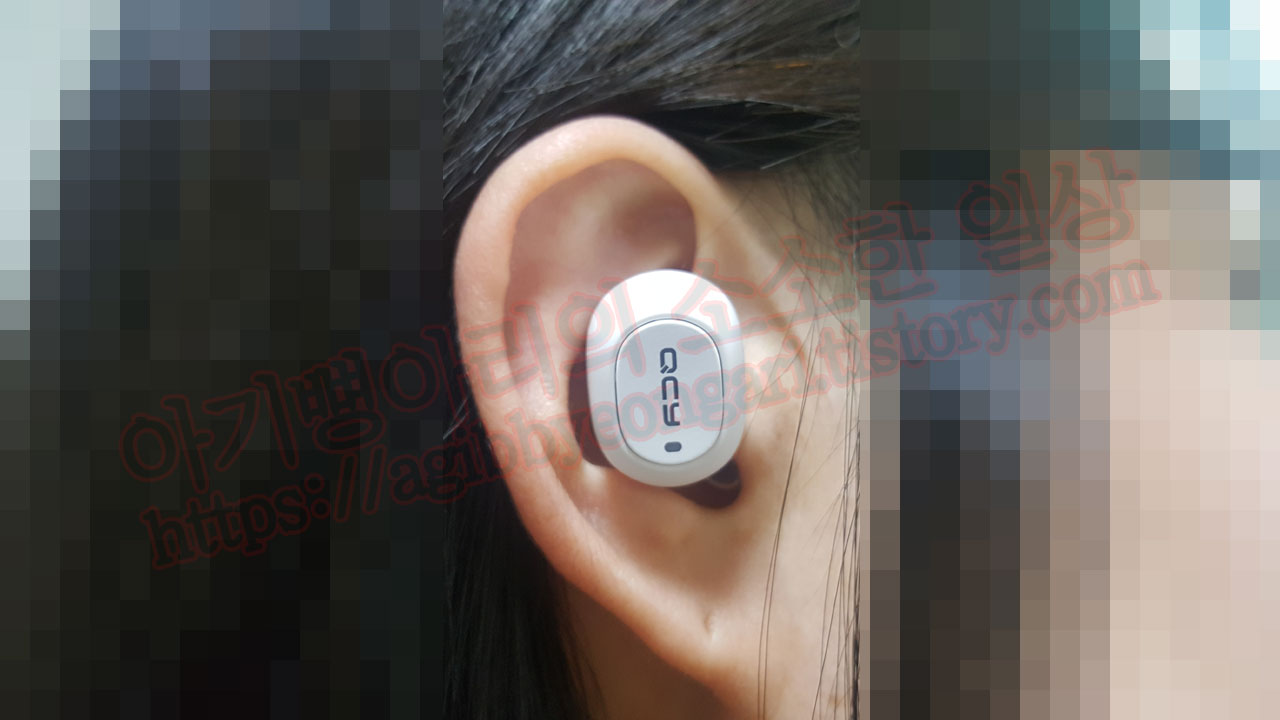earphone: (453, 112, 782, 720)
